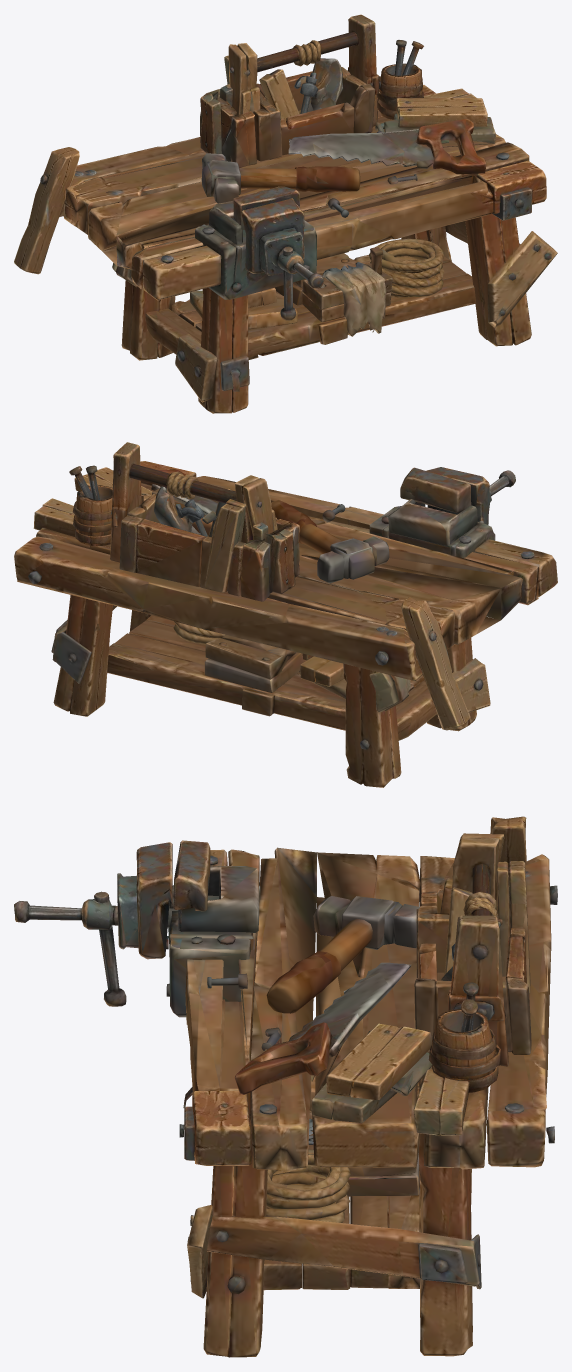
File: shelter_t1_workbench.glb
3 renders of one model, top to bottom at view 1: azimuth 30°, elevation 25°; view 2: azimuth 150°, elevation 25°; view 3: azimuth 270°, elevation 25°, orthographic. The views are drawn at different scales.
Size of the model in its own units: 0.9473 by 0.5737 by 0.7276.
Materials: 1 (1 with a texture image).
